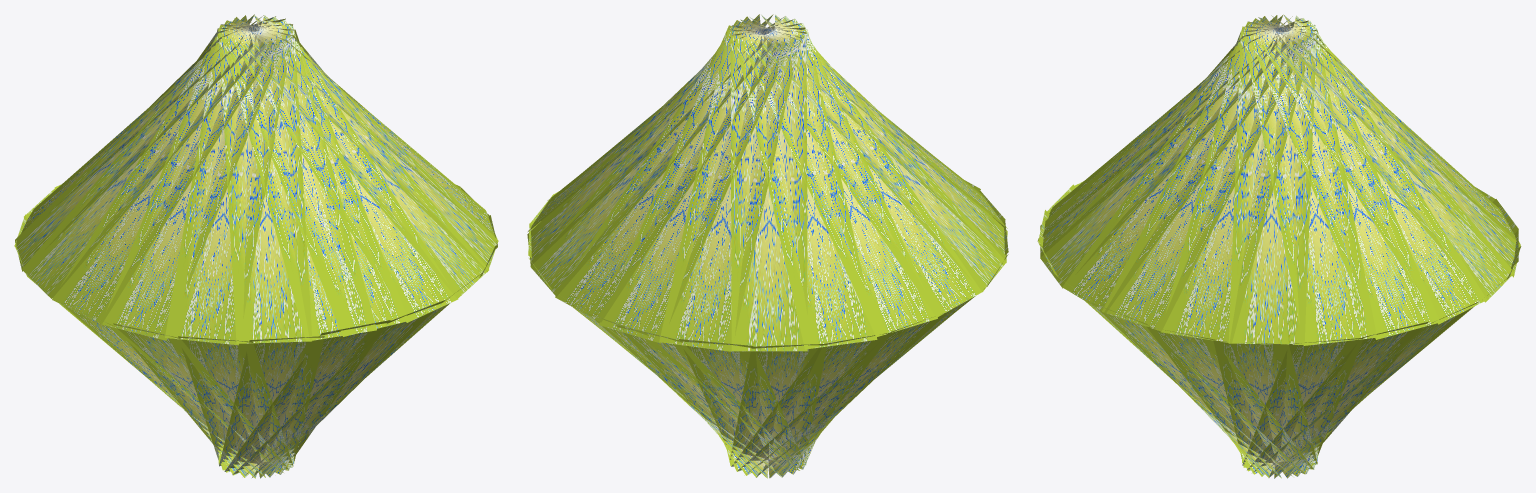
Rendered from crystal.dae.
3 views of the same model, side by side, from view 1: azimuth 30°, elevation 25°; view 2: azimuth 150°, elevation 25°; view 3: azimuth 270°, elevation 25° (orthographic).
Visible parts, largest first — view 1: crystal; view 2: crystal; view 3: crystal.
Part boxes in pixels (box(x1,y1,x2,y2)): crystal: box(14, 14, 498, 478); crystal: box(527, 14, 1008, 478); crystal: box(1037, 14, 1521, 478).
Bounding box in the file's own units: 1.43 × 1.41 × 1.43.
1 material, 1 textured.
